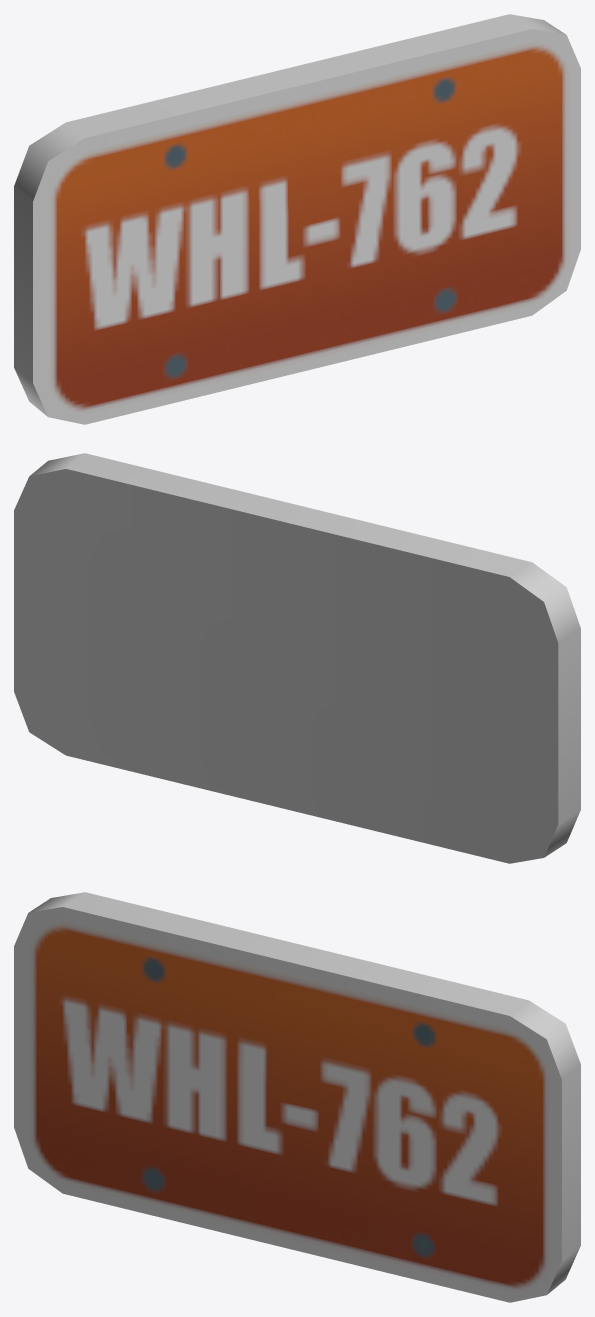
File: Car_Number_19.fbx
3 renders of one model, top to bottom at view 1: azimuth 30°, elevation 25°; view 2: azimuth 150°, elevation 25°; view 3: azimuth 330°, elevation 25°, orthographic.
Parts seen in each view (by area): view 1: Car_Number_19; view 2: Car_Number_19; view 3: Car_Number_19.
Part boxes in pixels (x1,y1,x2,y2): Car_Number_19: (14,14,580,424); Car_Number_19: (14,453,580,863); Car_Number_19: (14,892,580,1302).
Size of the model in its own units: 49.09 by 3.48 by 24.55.
